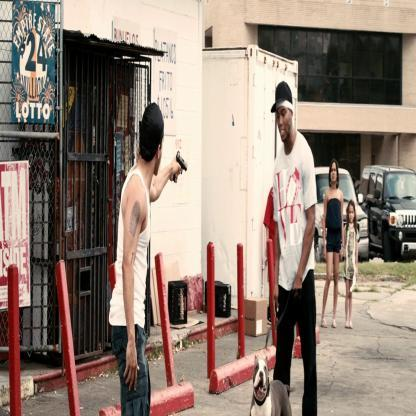gun: (169, 145, 201, 207)
